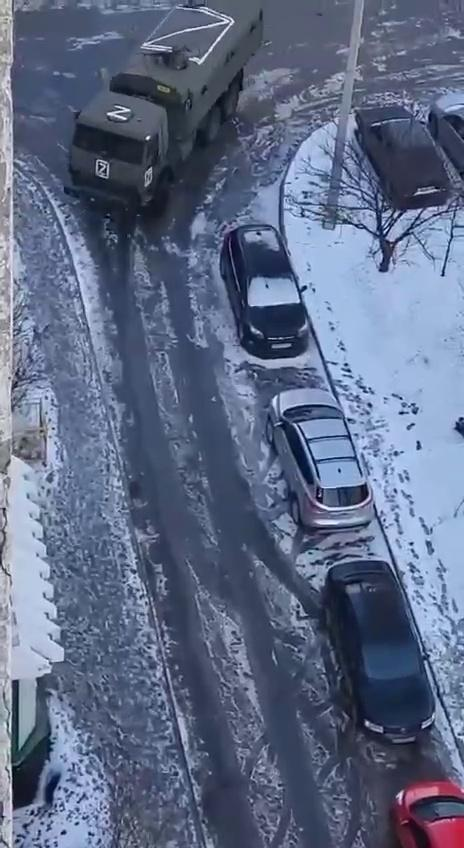car: (324, 560, 438, 748), (264, 388, 376, 534), (220, 222, 312, 356), (355, 102, 453, 208)
truck: (64, 0, 266, 216)
